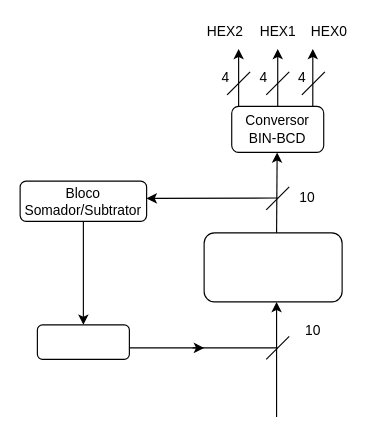
Some shapes in this 373 by 446 pixel diagram are drawn without their labels. Each missing label, with the box of its shape:
Bloco Comparador: (36, 324, 129, 359)
Registrador do Contador (Forma BIN): (203, 232, 342, 302)
